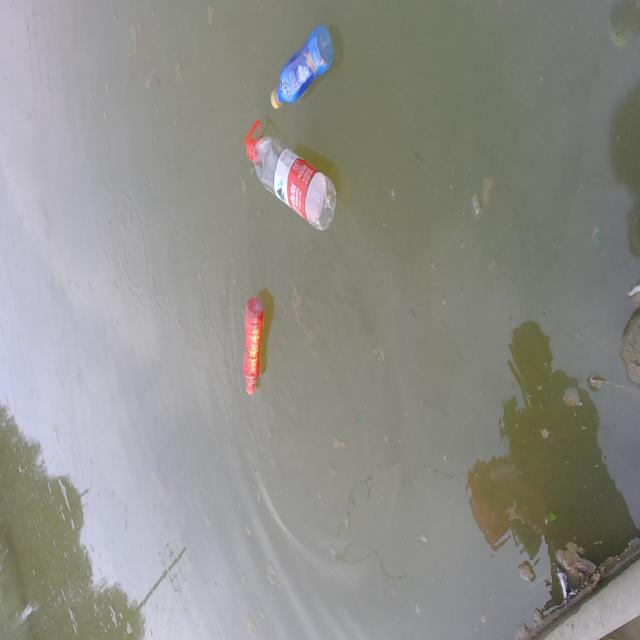Bottle: (242, 116, 338, 232), (267, 27, 341, 110), (239, 290, 267, 405)
